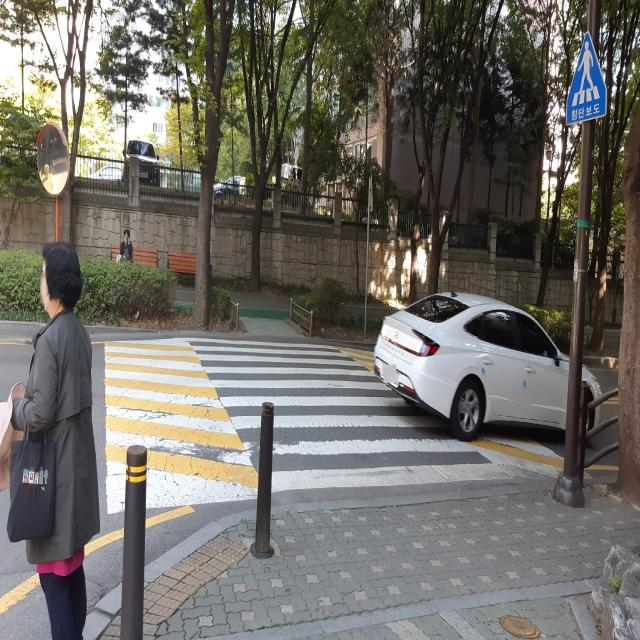횡단보도: (186, 336, 514, 495)
